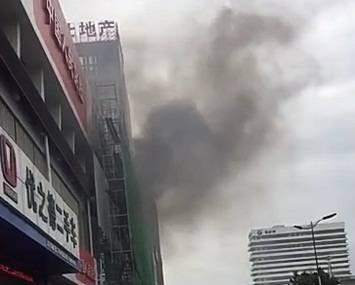smoke: (139, 38, 274, 203)
